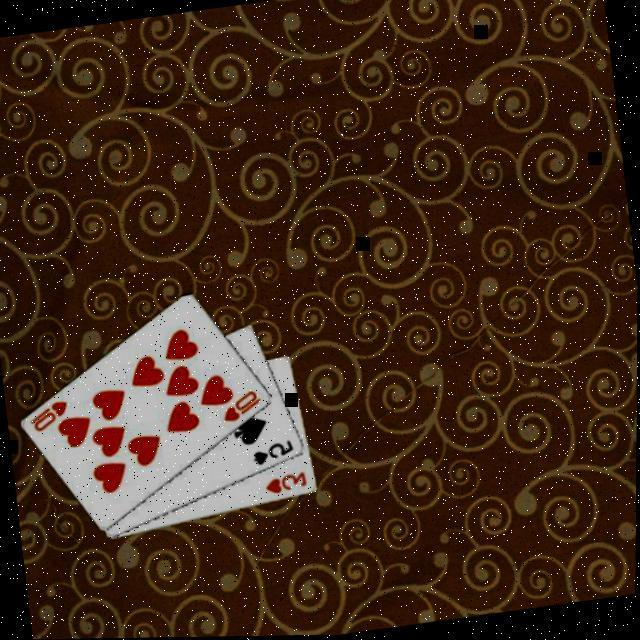10H: (217, 389, 265, 428), (25, 399, 73, 438)
3H: (261, 471, 310, 501)
5S: (248, 440, 297, 472)
